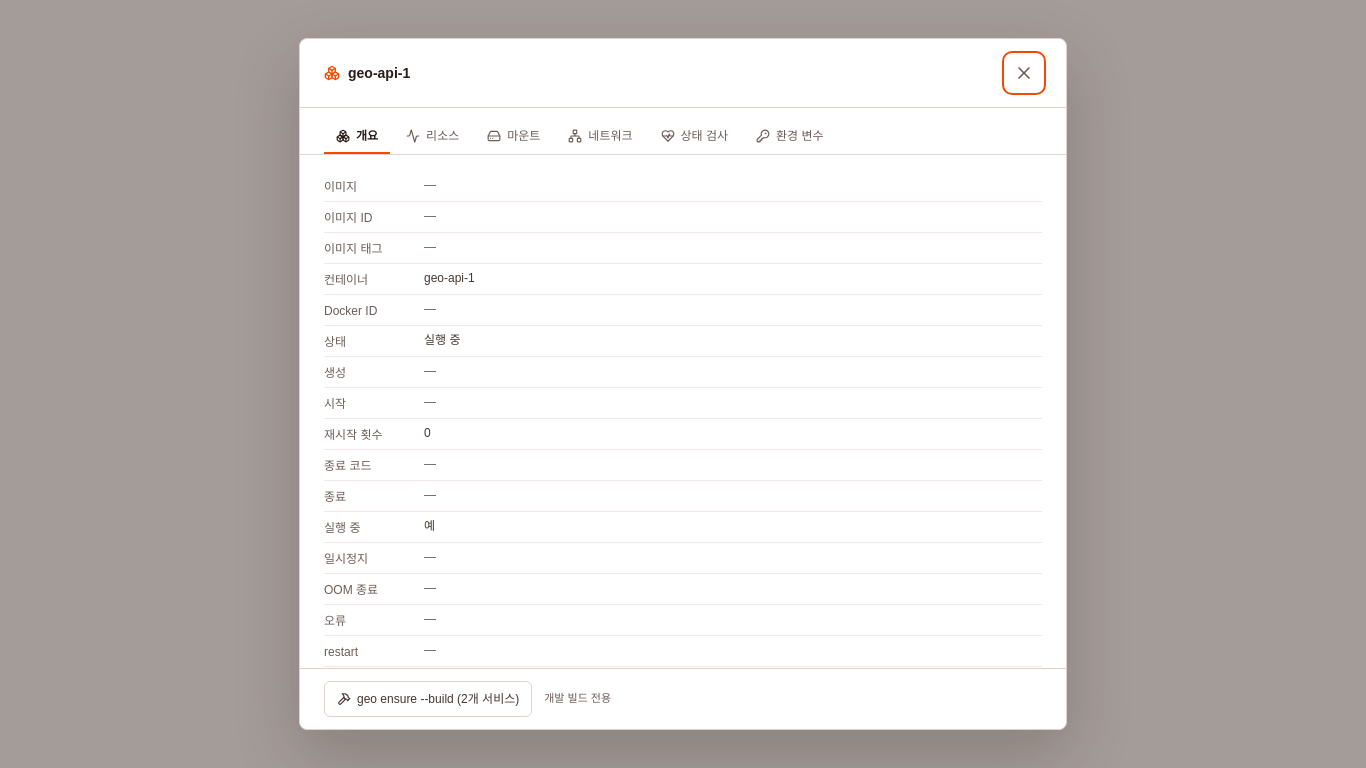
Test: ContainerDetailModal — 오류 표시 분기 › ensure 실행(postJson, react-query 밖의 imperative 상태)이 실패하면 로컬 에러 메시지가 렌더된다
Click the button "geo ensure --build (2개 서비스)": [428, 699] box [324, 681, 532, 717]
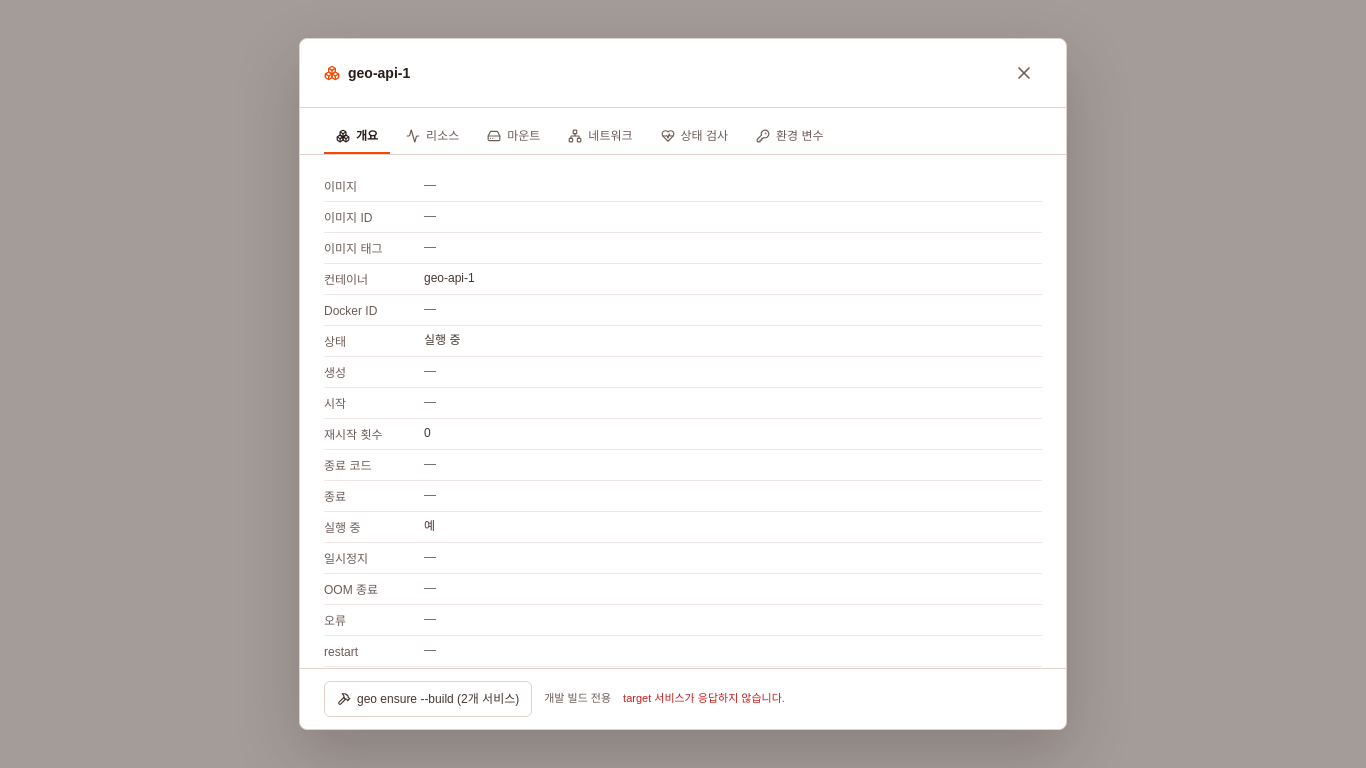
expect the text "target 서비스가 응답하지 않습니다." is shown: met, box [623, 690, 785, 707]
